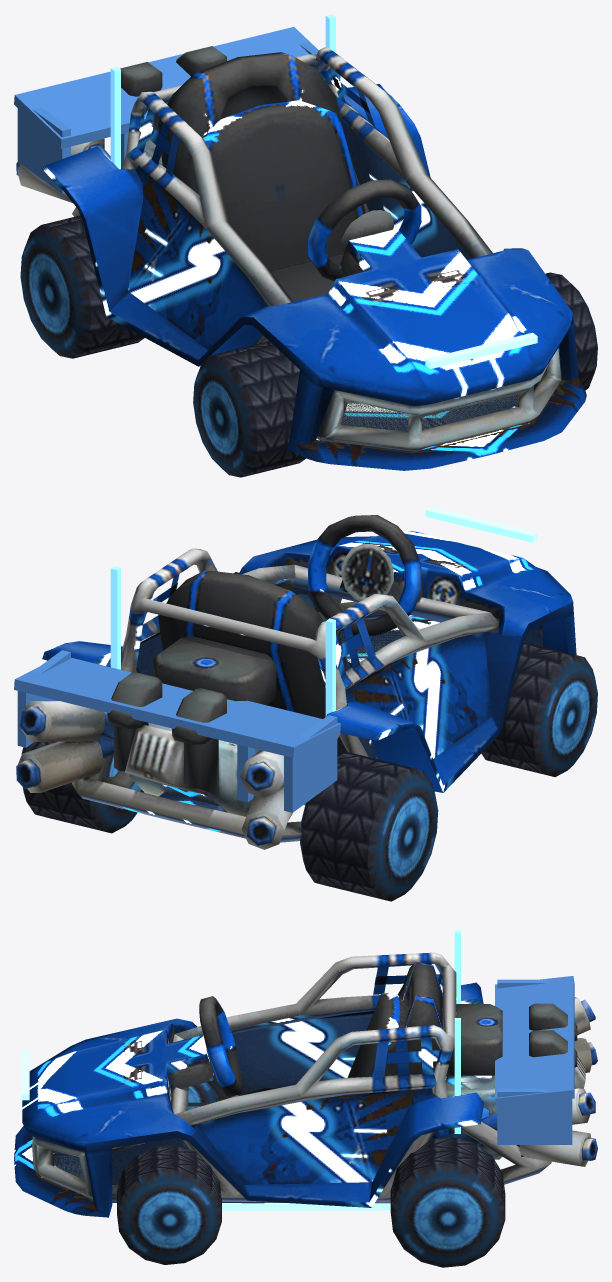
File: kart_2_Minh_Volt_S-Hyperion_Bolt.glb
3 renders of one model, top to bottom at view 1: azimuth 30°, elevation 25°; view 2: azimuth 150°, elevation 25°; view 3: azimuth 270°, elevation 25°, orthographic. The views are drawn at different scales.
Parts seen in each view (by area): view 1: kartModel, tireTest (2), Wing, tireTest (1), tireTest (3), ThemeExtras, NeonStrips; view 2: kartModel, tireTest (1), Wing, tireTest (2), tireTest, ThemeExtras, NeonStrips; view 3: kartModel, tireTest, Wing, tireTest (3), NeonStrips, ThemeExtras, tireTest (2).
Boxes of the visible parts, left/top/right/bottom form: kartModel: left=16, top=46, right=586, bottom=470; tireTest (2): left=193, top=341, right=305, bottom=477; Wing: left=14, top=27, right=340, bottom=193; tireTest (1): left=20, top=215, right=144, bottom=358; tireTest (3): left=545, top=272, right=597, bottom=390; ThemeExtras: left=110, top=14, right=335, bottom=169; NeonStrips: left=425, top=332, right=537, bottom=369; kartModel: left=16, top=515, right=576, bottom=849; tireTest (1): left=300, top=752, right=438, bottom=901; Wing: left=14, top=650, right=340, bottom=812; tireTest (2): left=481, top=642, right=597, bottom=776; tireTest: left=21, top=741, right=144, bottom=833; ThemeExtras: left=110, top=566, right=335, bottom=716; NeonStrips: left=425, top=506, right=537, bottom=542; kartModel: left=14, top=952, right=597, bottom=1217; tireTest: left=390, top=1137, right=505, bottom=1267; Wing: left=495, top=976, right=574, bottom=1144; tireTest (3): left=117, top=1145, right=221, bottom=1264; NeonStrips: left=21, top=1050, right=390, bottom=1210; ThemeExtras: left=454, top=930, right=460, bottom=1133; tireTest (2): left=188, top=1082, right=218, bottom=1109.
Size of the model in its own units: 0.0167 by 0.0118 by 0.0281.
5 materials, 2 textured.
